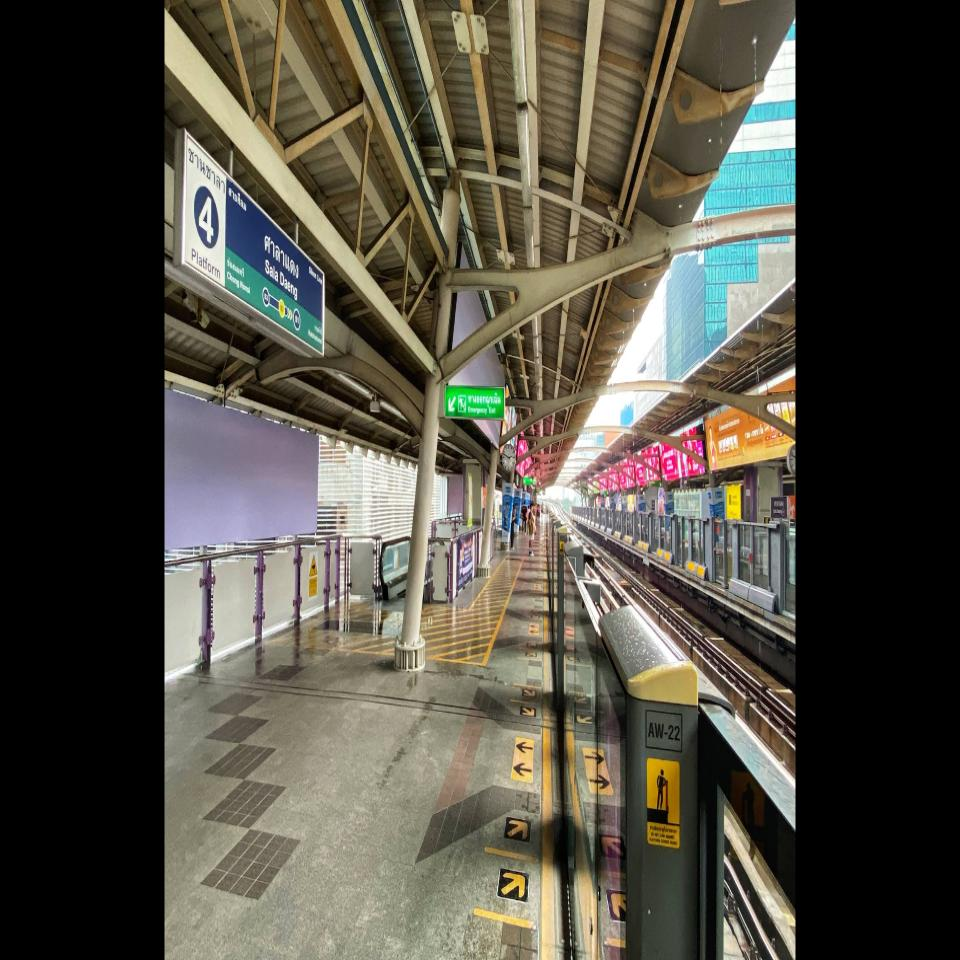signage: (262, 207, 301, 340)
